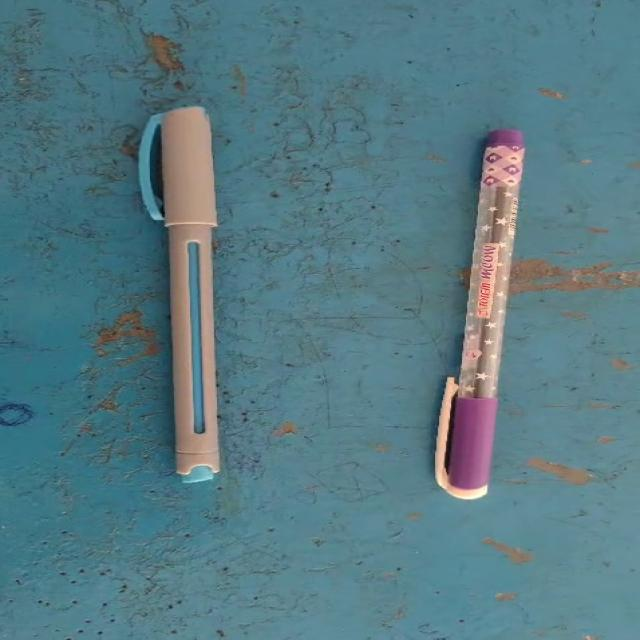pen: (115, 87, 274, 507), (415, 104, 567, 519)
